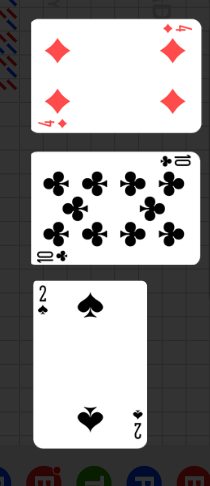10C: (158, 154, 192, 170), (35, 248, 70, 263)
2S: (130, 407, 144, 441)
